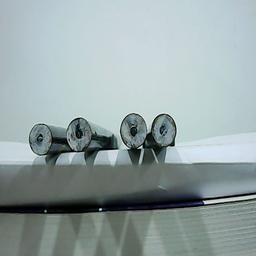pen: (118, 114, 145, 148), (151, 114, 175, 149), (66, 116, 89, 152), (28, 121, 49, 154)
